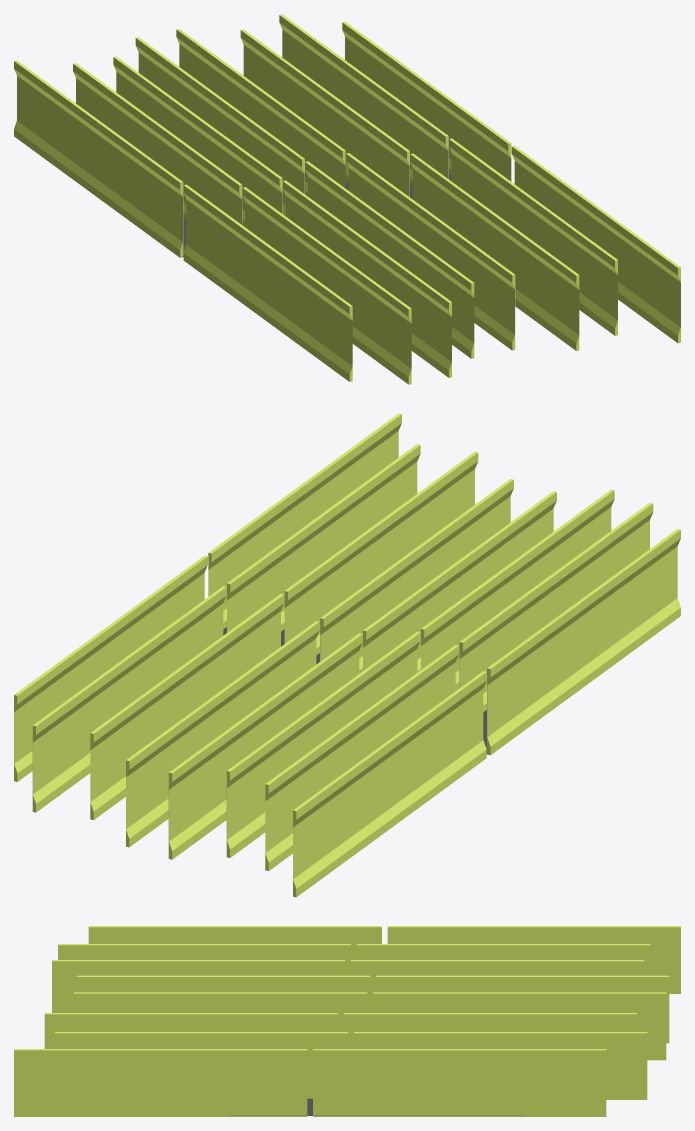
Rendered from Narrow_gap.dae.
The picture shows the model from 3 angles, top to bottom: view 1: azimuth 30°, elevation 25°; view 2: azimuth 150°, elevation 25°; view 3: azimuth 270°, elevation 25°; orthographic projection. The views are drawn at different scales.
Visible parts, largest first — view 1: node_de9290f1_1f28_46ff_8f9a_472934d9d44c_mesh5, node_de9290f1_1f28_46ff_8f9a_472934d9d44c_mesh14, node_de9290f1_1f28_46ff_8f9a_472934d9d44c_mesh2, node_de9290f1_1f28_46ff_8f9a_472934d9d44c_mesh11, node_de9290f1_1f28_46ff_8f9a_472934d9d44c_mesh9, node_de9290f1_1f28_46ff_8f9a_472934d9d44c_mesh10, node_de9290f1_1f28_46ff_8f9a_472934d9d44c_mesh15, node_de9290f1_1f28_46ff_8f9a_472934d9d44c_mesh6, node_de9290f1_1f28_46ff_8f9a_472934d9d44c_mesh13, node_de9290f1_1f28_46ff_8f9a_472934d9d44c_mesh3, node_de9290f1_1f28_46ff_8f9a_472934d9d44c_mesh8, node_de9290f1_1f28_46ff_8f9a_472934d9d44c_mesh12 (+4 smaller); view 2: node_de9290f1_1f28_46ff_8f9a_472934d9d44c_mesh14, node_de9290f1_1f28_46ff_8f9a_472934d9d44c_mesh5, node_de9290f1_1f28_46ff_8f9a_472934d9d44c_mesh3, node_de9290f1_1f28_46ff_8f9a_472934d9d44c_mesh6, node_de9290f1_1f28_46ff_8f9a_472934d9d44c_mesh1, node_de9290f1_1f28_46ff_8f9a_472934d9d44c_mesh0, node_de9290f1_1f28_46ff_8f9a_472934d9d44c_mesh2, node_de9290f1_1f28_46ff_8f9a_472934d9d44c_mesh12, node_de9290f1_1f28_46ff_8f9a_472934d9d44c_mesh7, node_de9290f1_1f28_46ff_8f9a_472934d9d44c_mesh10, node_de9290f1_1f28_46ff_8f9a_472934d9d44c_mesh16, node_de9290f1_1f28_46ff_8f9a_472934d9d44c_mesh11 (+4 smaller); view 3: node_de9290f1_1f28_46ff_8f9a_472934d9d44c_mesh9, node_de9290f1_1f28_46ff_8f9a_472934d9d44c_mesh16, node_de9290f1_1f28_46ff_8f9a_472934d9d44c_mesh0, node_de9290f1_1f28_46ff_8f9a_472934d9d44c_mesh3, node_de9290f1_1f28_46ff_8f9a_472934d9d44c_mesh5, node_de9290f1_1f28_46ff_8f9a_472934d9d44c_mesh15, node_de9290f1_1f28_46ff_8f9a_472934d9d44c_mesh2, node_de9290f1_1f28_46ff_8f9a_472934d9d44c_mesh6, node_de9290f1_1f28_46ff_8f9a_472934d9d44c_mesh13, node_de9290f1_1f28_46ff_8f9a_472934d9d44c_mesh1, node_de9290f1_1f28_46ff_8f9a_472934d9d44c_mesh14, node_de9290f1_1f28_46ff_8f9a_472934d9d44c_mesh8 (+5 smaller).
Part boxes in pixels (<box>): node_de9290f1_1f28_46ff_8f9a_472934d9d44c_mesh5: <box>14,60,183,257</box>; node_de9290f1_1f28_46ff_8f9a_472934d9d44c_mesh14: <box>183,184,352,381</box>; node_de9290f1_1f28_46ff_8f9a_472934d9d44c_mesh2: <box>410,153,579,350</box>; node_de9290f1_1f28_46ff_8f9a_472934d9d44c_mesh11: <box>242,187,411,384</box>; node_de9290f1_1f28_46ff_8f9a_472934d9d44c_mesh9: <box>511,145,680,343</box>; node_de9290f1_1f28_46ff_8f9a_472934d9d44c_mesh10: <box>449,138,617,335</box>; node_de9290f1_1f28_46ff_8f9a_472934d9d44c_mesh15: <box>346,153,515,350</box>; node_de9290f1_1f28_46ff_8f9a_472934d9d44c_mesh6: <box>240,29,409,197</box>; node_de9290f1_1f28_46ff_8f9a_472934d9d44c_mesh13: <box>283,180,451,377</box>; node_de9290f1_1f28_46ff_8f9a_472934d9d44c_mesh3: <box>279,14,448,186</box>; node_de9290f1_1f28_46ff_8f9a_472934d9d44c_mesh8: <box>305,161,474,358</box>; node_de9290f1_1f28_46ff_8f9a_472934d9d44c_mesh12: <box>73,63,242,224</box>; node_de9290f1_1f28_46ff_8f9a_472934d9d44c_mesh14: <box>487,529,680,755</box>; node_de9290f1_1f28_46ff_8f9a_472934d9d44c_mesh5: <box>293,671,486,897</box>; node_de9290f1_1f28_46ff_8f9a_472934d9d44c_mesh3: <box>32,586,226,812</box>; node_de9290f1_1f28_46ff_8f9a_472934d9d44c_mesh6: <box>90,594,284,820</box>; node_de9290f1_1f28_46ff_8f9a_472934d9d44c_mesh1: <box>168,633,362,859</box>; node_de9290f1_1f28_46ff_8f9a_472934d9d44c_mesh0: <box>126,621,319,847</box>; node_de9290f1_1f28_46ff_8f9a_472934d9d44c_mesh2: <box>284,451,478,655</box>; node_de9290f1_1f28_46ff_8f9a_472934d9d44c_mesh12: <box>265,645,458,871</box>; node_de9290f1_1f28_46ff_8f9a_472934d9d44c_mesh7: <box>226,631,420,857</box>; node_de9290f1_1f28_46ff_8f9a_472934d9d44c_mesh10: <box>227,444,420,632</box>; node_de9290f1_1f28_46ff_8f9a_472934d9d44c_mesh16: <box>14,555,207,781</box>; node_de9290f1_1f28_46ff_8f9a_472934d9d44c_mesh11: <box>459,502,653,711</box>; node_de9290f1_1f28_46ff_8f9a_472934d9d44c_mesh9: <box>14,1049,307,1116</box>; node_de9290f1_1f28_46ff_8f9a_472934d9d44c_mesh16: <box>313,1049,606,1116</box>; node_de9290f1_1f28_46ff_8f9a_472934d9d44c_mesh0: <box>373,992,666,1060</box>; node_de9290f1_1f28_46ff_8f9a_472934d9d44c_mesh3: <box>354,1032,647,1099</box>; node_de9290f1_1f28_46ff_8f9a_472934d9d44c_mesh5: <box>387,926,680,993</box>; node_de9290f1_1f28_46ff_8f9a_472934d9d44c_mesh15: <box>74,992,367,1031</box>; node_de9290f1_1f28_46ff_8f9a_472934d9d44c_mesh2: <box>44,1013,337,1048</box>; node_de9290f1_1f28_46ff_8f9a_472934d9d44c_mesh6: <box>344,1013,636,1048</box>; node_de9290f1_1f28_46ff_8f9a_472934d9d44c_mesh13: <box>52,960,345,1012</box>; node_de9290f1_1f28_46ff_8f9a_472934d9d44c_mesh1: <box>376,975,669,1043</box>; node_de9290f1_1f28_46ff_8f9a_472934d9d44c_mesh14: <box>88,926,381,959</box>; node_de9290f1_1f28_46ff_8f9a_472934d9d44c_mesh8: <box>77,975,370,1012</box>.
Size of the model in its own units: 5030 by 1250 by 11375.
